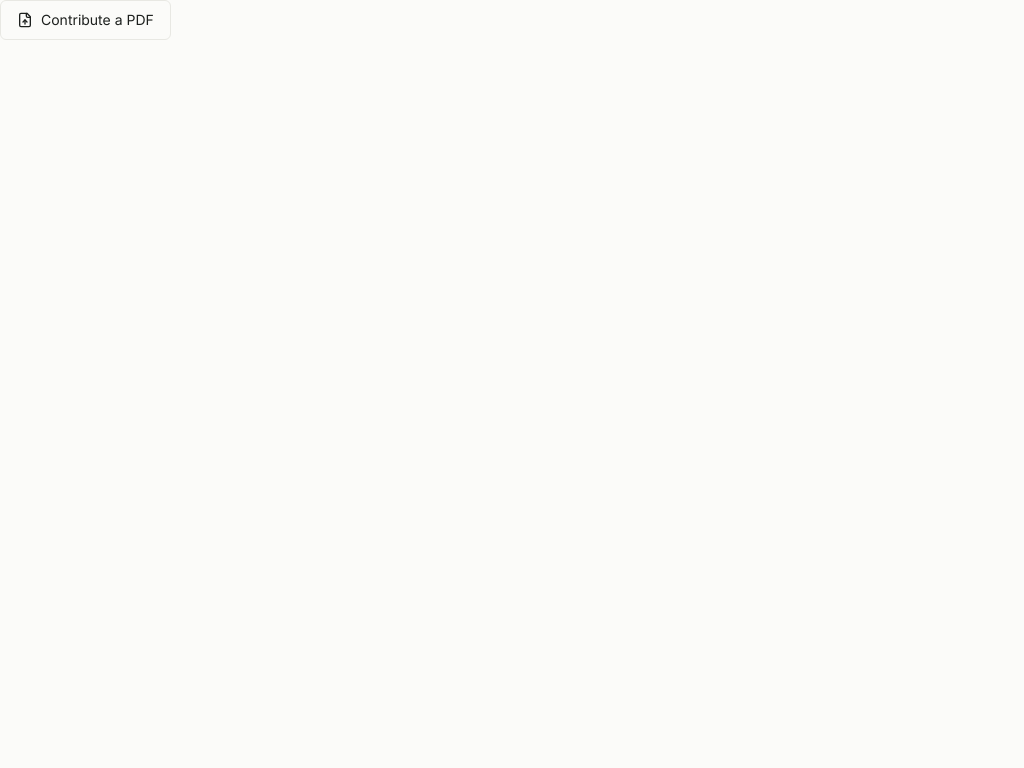
Test: ContributeBookPdfDialog › prompts signed-out visitors to sign in and does not expose the upload form
Click the button "Contribute a PDF" at coordinates (85, 20), box [0,0,171,40]
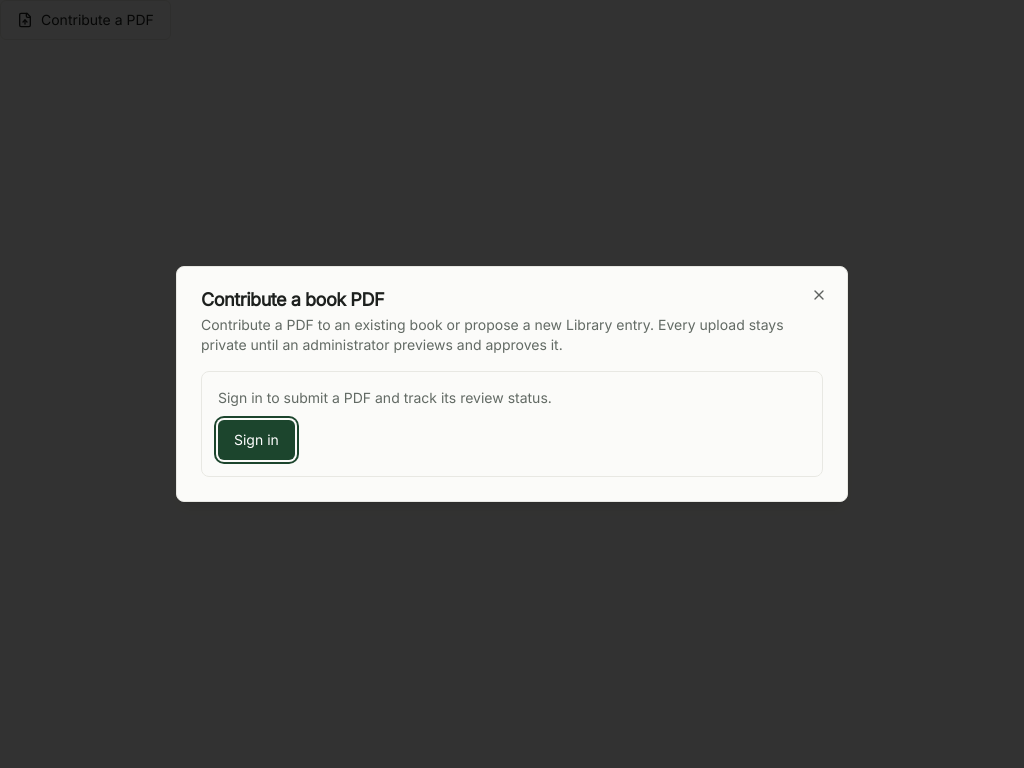
Expected: the text "Sign in to submit a PDF and track its review status." is shown, [218,389,552,406]
